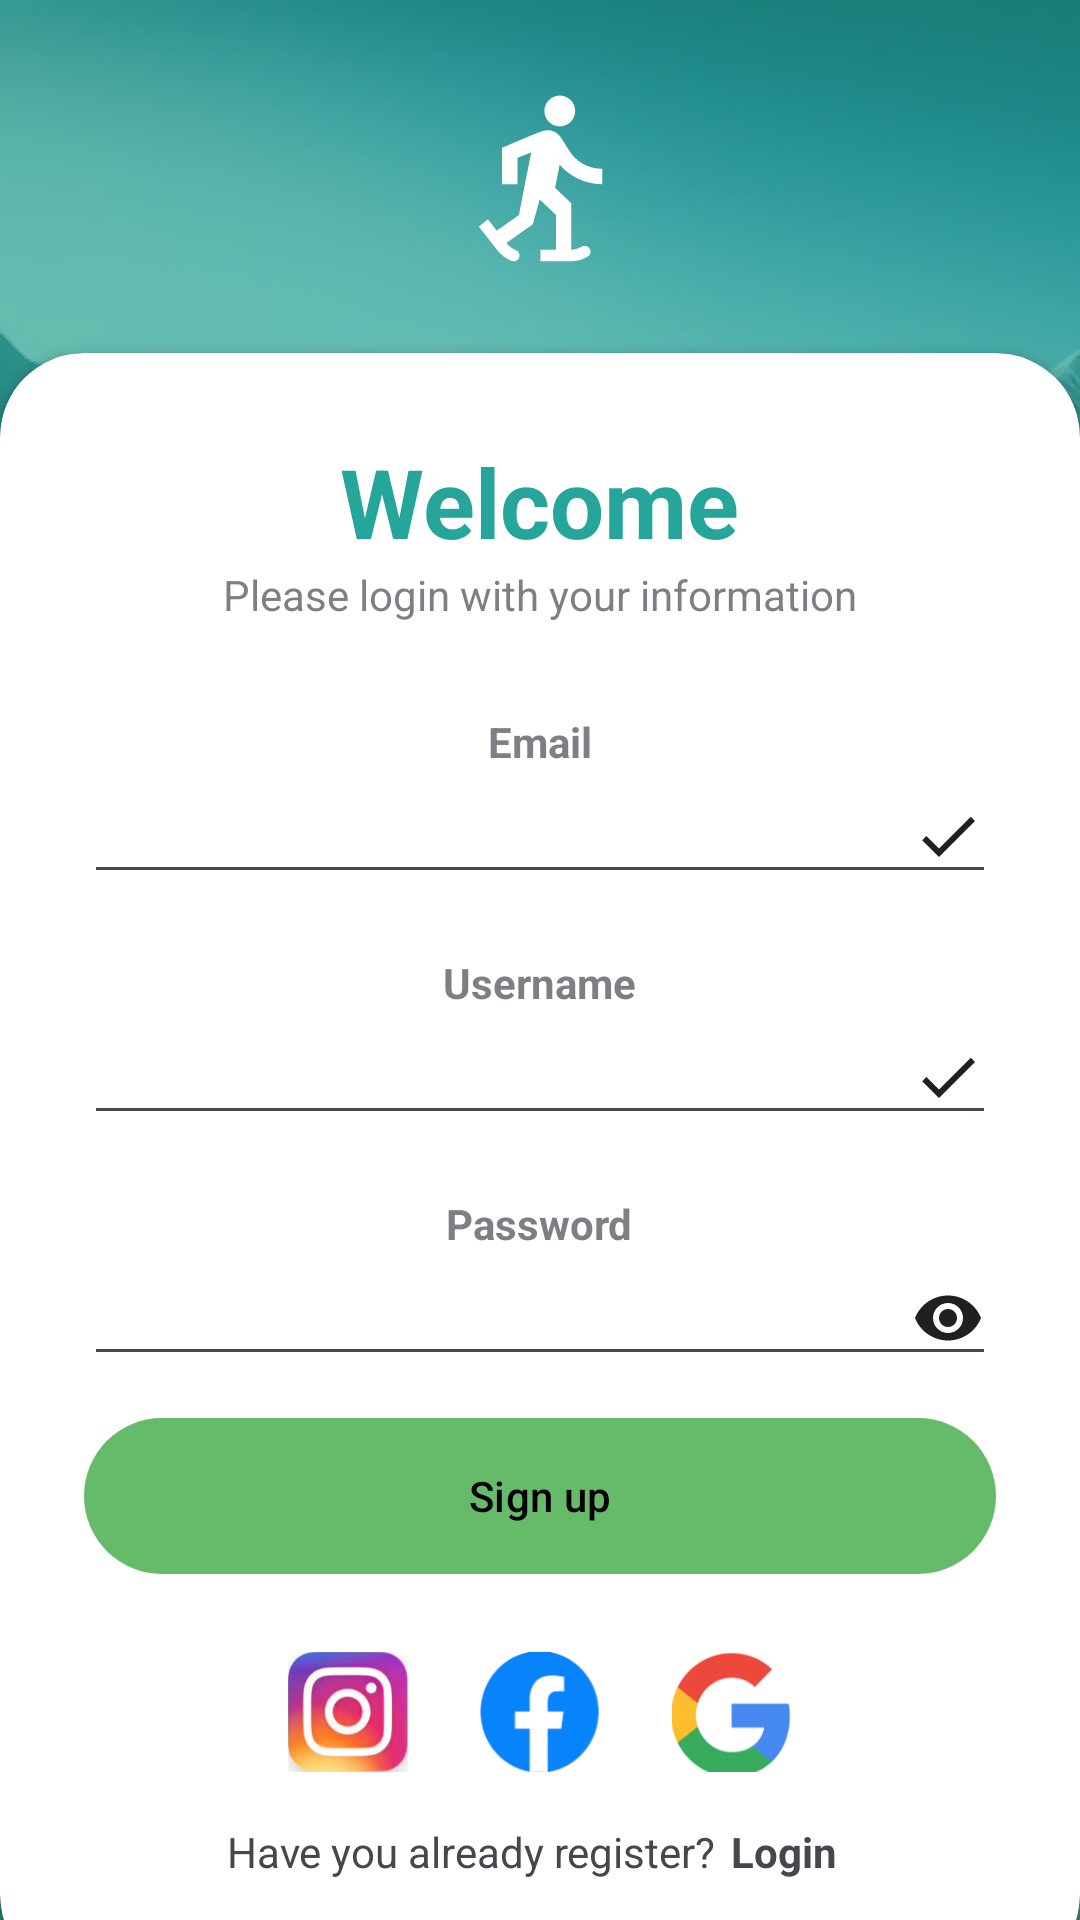

Where to tap for icons on this 1080 × 1920 app screen, as point (x, y):
snowhoeing: point (540, 176)
